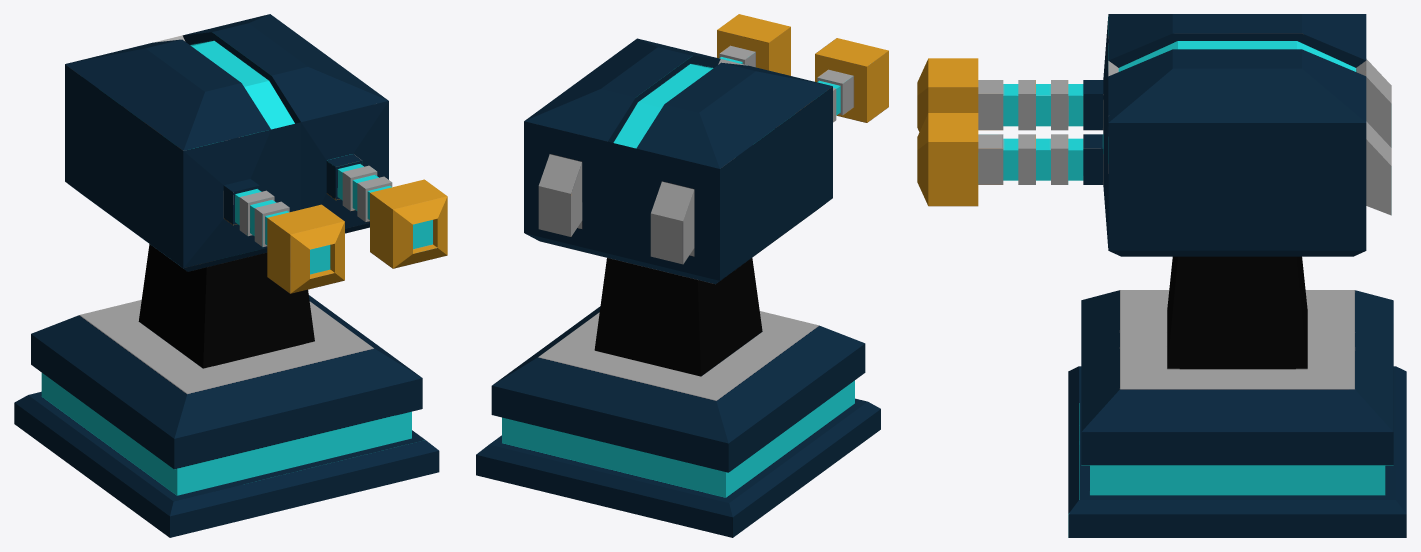
The model's file is TorreFuturista Final.fbx.
3 views of the same model, side by side, from view 1: azimuth 30°, elevation 25°; view 2: azimuth 150°, elevation 25°; view 3: azimuth 270°, elevation 25° (orthographic). The views are drawn at different scales.
Parts seen in each view (by area): view 1: Futuristic Tower, Futuristic Tower.001; view 2: Futuristic Tower, Futuristic Tower.001; view 3: Futuristic Tower.001, Futuristic Tower.
Boxes of the visible parts, bbox=[...] form: Futuristic Tower: bbox=[14, 244, 439, 537]; Futuristic Tower.001: bbox=[65, 14, 447, 293]; Futuristic Tower: bbox=[476, 258, 880, 537]; Futuristic Tower.001: bbox=[524, 14, 888, 284]; Futuristic Tower.001: bbox=[917, 14, 1391, 256]; Futuristic Tower: bbox=[1068, 256, 1406, 537].
Bounding box in the file's own units: 217 × 300 × 314.
Materials: 2 (2 with a texture image).
